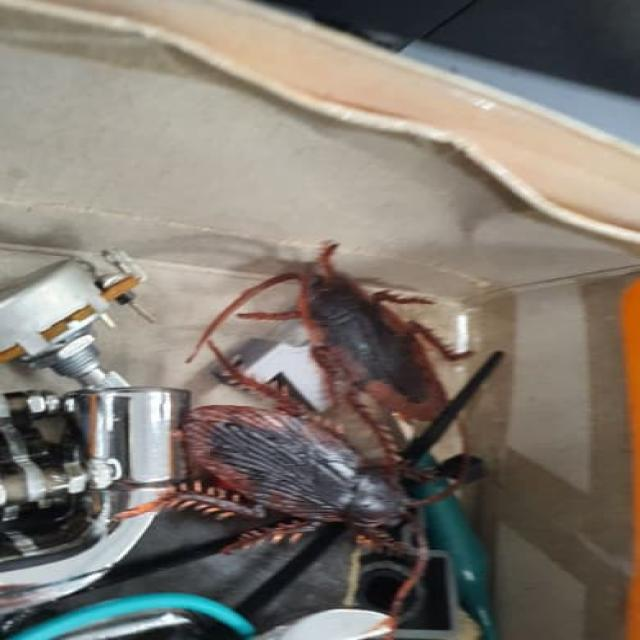Cockroach: (212, 224, 494, 428), (152, 379, 442, 567)
